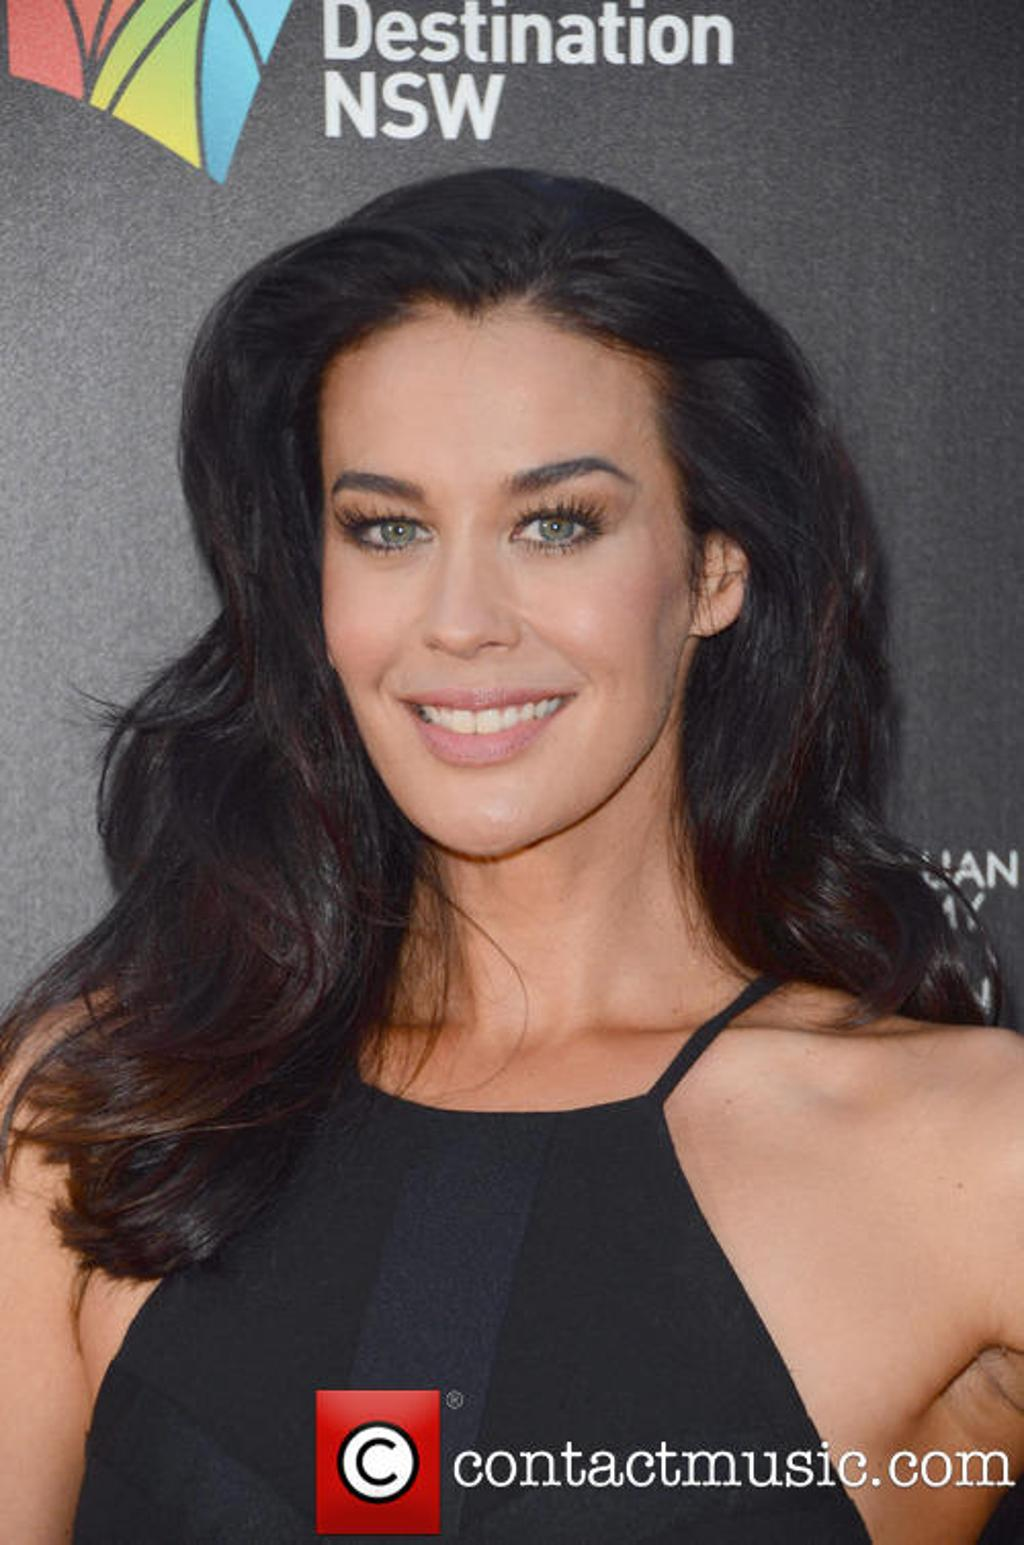face: (314, 308, 690, 847)
